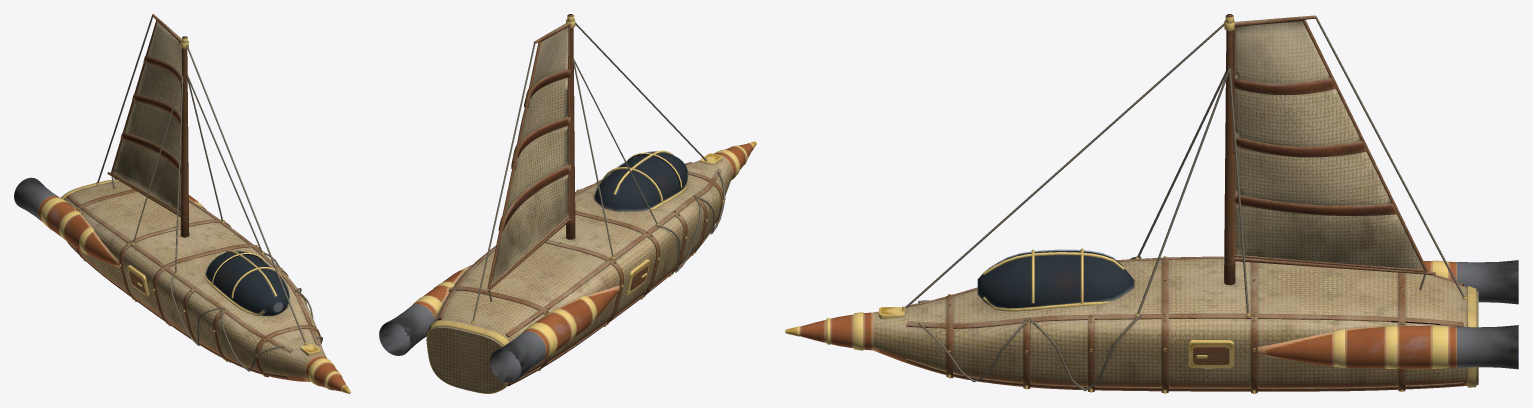
The model's file is skiff.glb.
3 renders of one model, left to right at view 1: azimuth 30°, elevation 25°; view 2: azimuth 150°, elevation 25°; view 3: azimuth 270°, elevation 25°, orthographic. The views are drawn at different scales.
Visible parts, largest first — view 1: skiff_body, skiff_rig, canopy; view 2: skiff_body, canopy, skiff_rig; view 3: skiff_body, canopy, skiff_rig.
Part boxes in pixels (x1=…): skiff_body: x1=14, y1=14, x2=350, y2=393; skiff_rig: x1=97, y1=16, x2=322, y2=371; canopy: x1=205, y1=250, x2=289, y2=315; skiff_body: x1=379, y1=14, x2=756, y2=393; canopy: x1=593, y1=151, x2=688, y2=211; skiff_rig: x1=472, y1=22, x2=725, y2=320; skiff_body: x1=785, y1=14, x2=1518, y2=393; canopy: x1=978, y1=249, x2=1133, y2=308; skiff_rig: x1=904, y1=16, x2=1464, y2=391.
Bounding box in the file's own units: 1.29 × 2.59 × 4.77.
5 materials, 1 textured.
